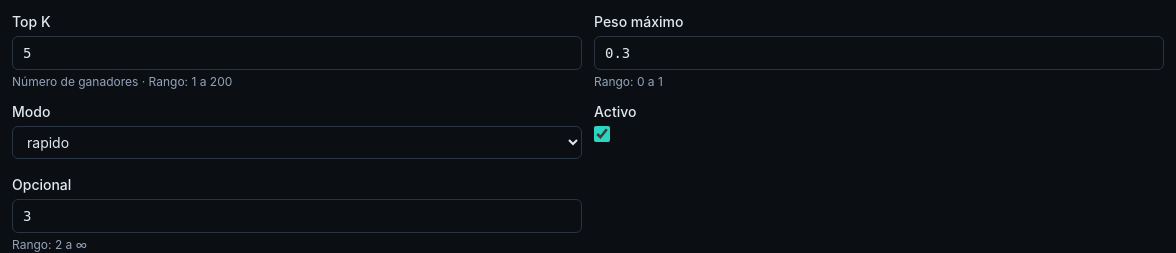
Test: FormularioSchema › muestra el error de validación cuando se sale del rango
The width and height of the screenshot is (1176, 253).
(page scrolled)
Replace the text in the number field labelled "Top K" with "500" at (297, 53), box x1=12 y1=36 x2=582 y2=70
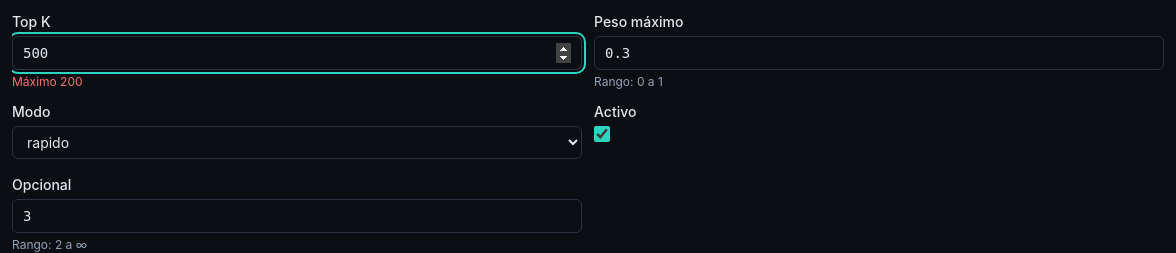
Check: the text "Máximo 200" is shown, box x1=12 y1=74 x2=83 y2=89
